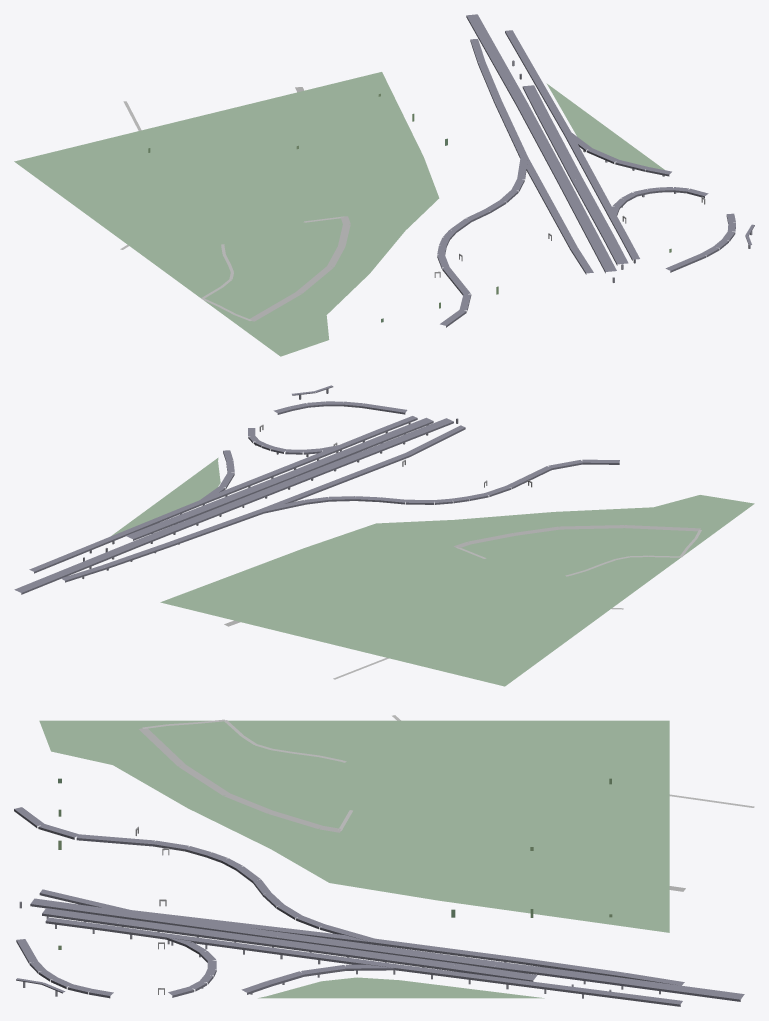
3 renders of one model, top to bottom at view 1: azimuth 30°, elevation 25°; view 2: azimuth 150°, elevation 25°; view 3: azimuth 270°, elevation 25°, orthographic. The views are drawn at different scales.
Bounding box in the file's own units: 534 × 10.28 × 565.
